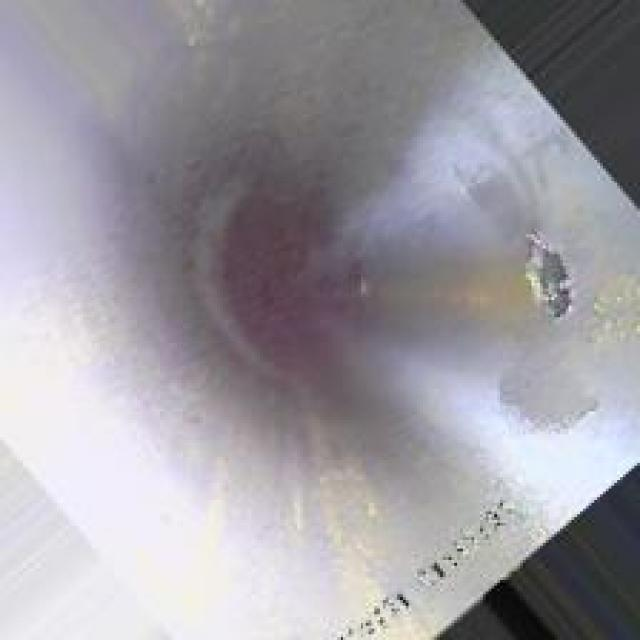ferrule: (514, 229, 589, 334)
